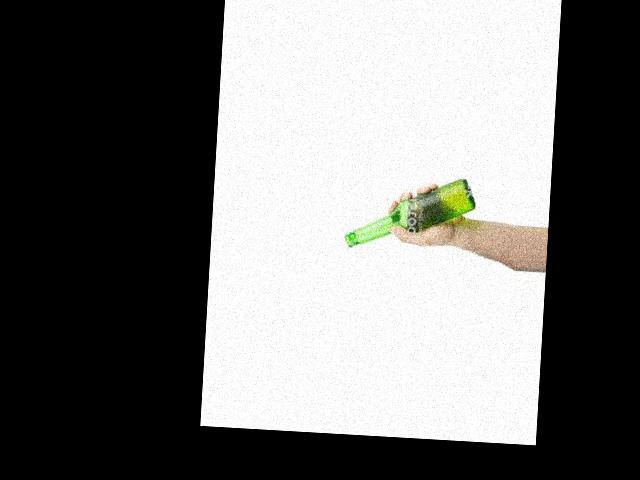beer: (343, 171, 475, 254)
